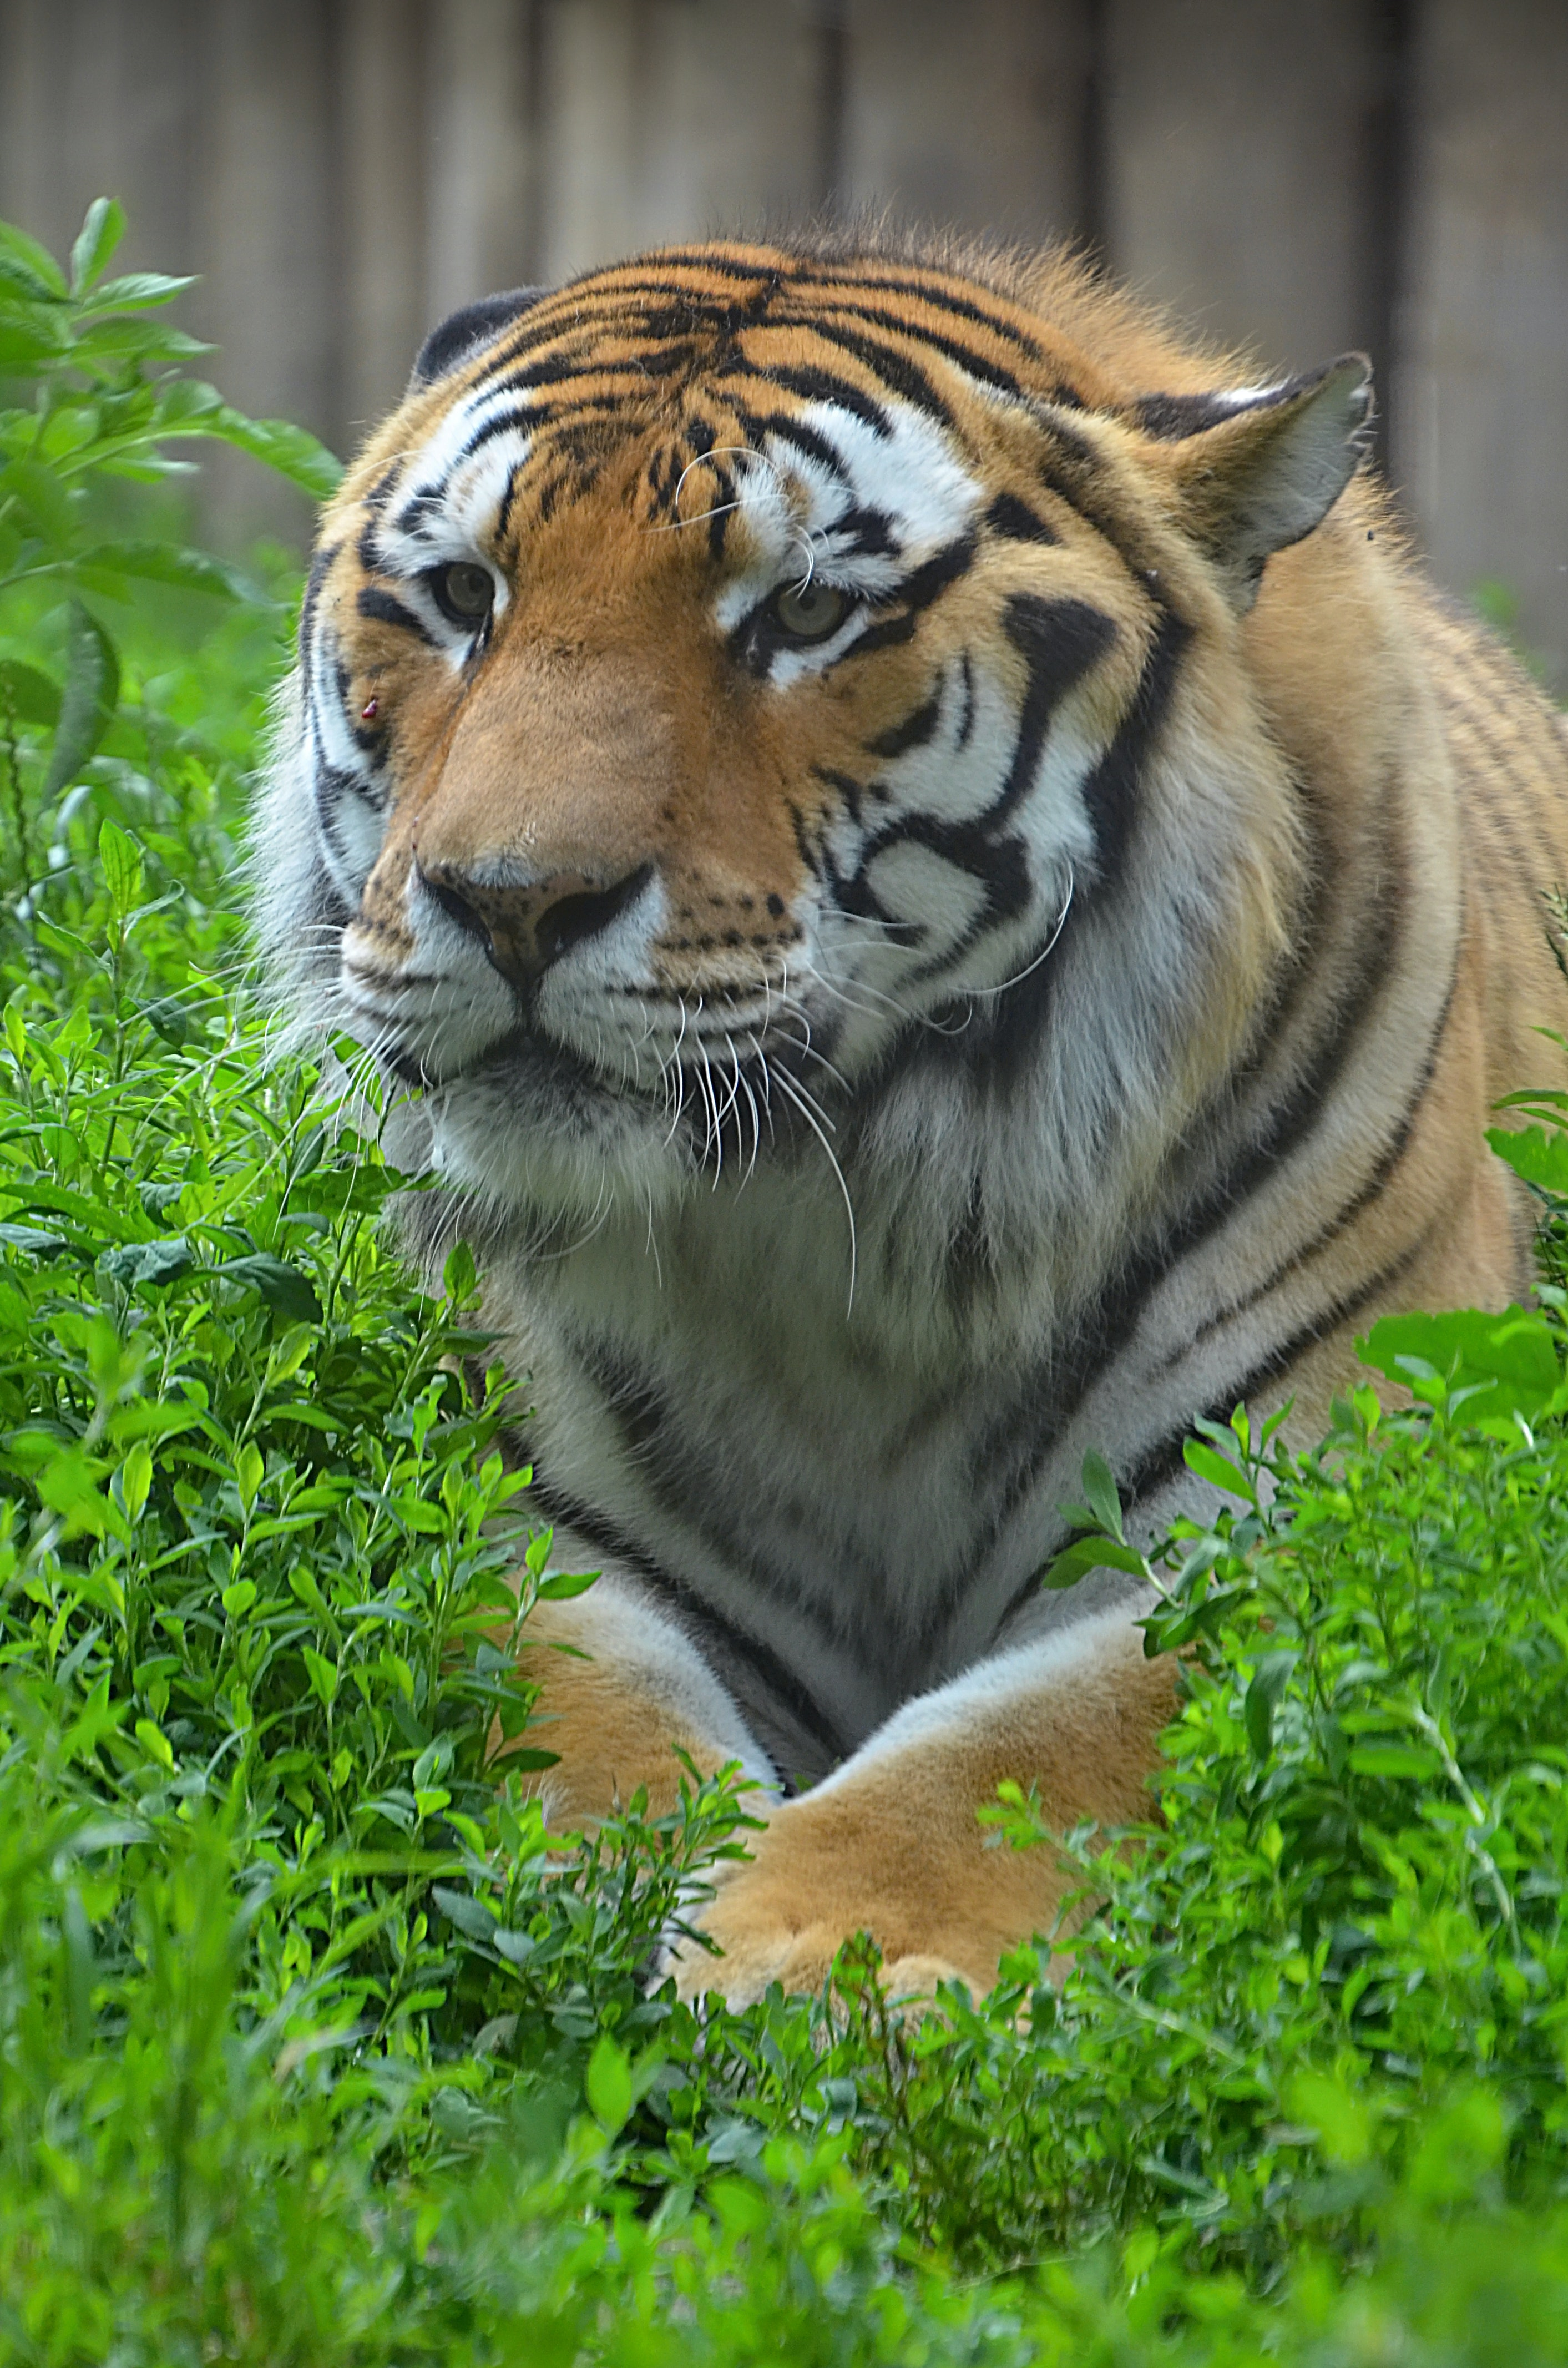tiger: (171, 177, 1550, 1988)
